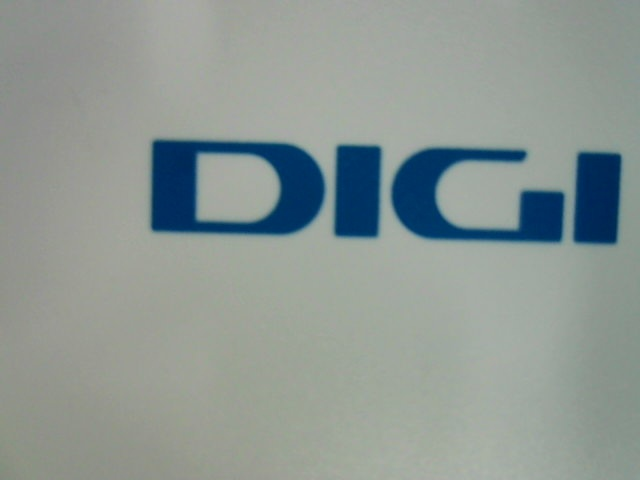BL_DIGI: (134, 119, 629, 255)
